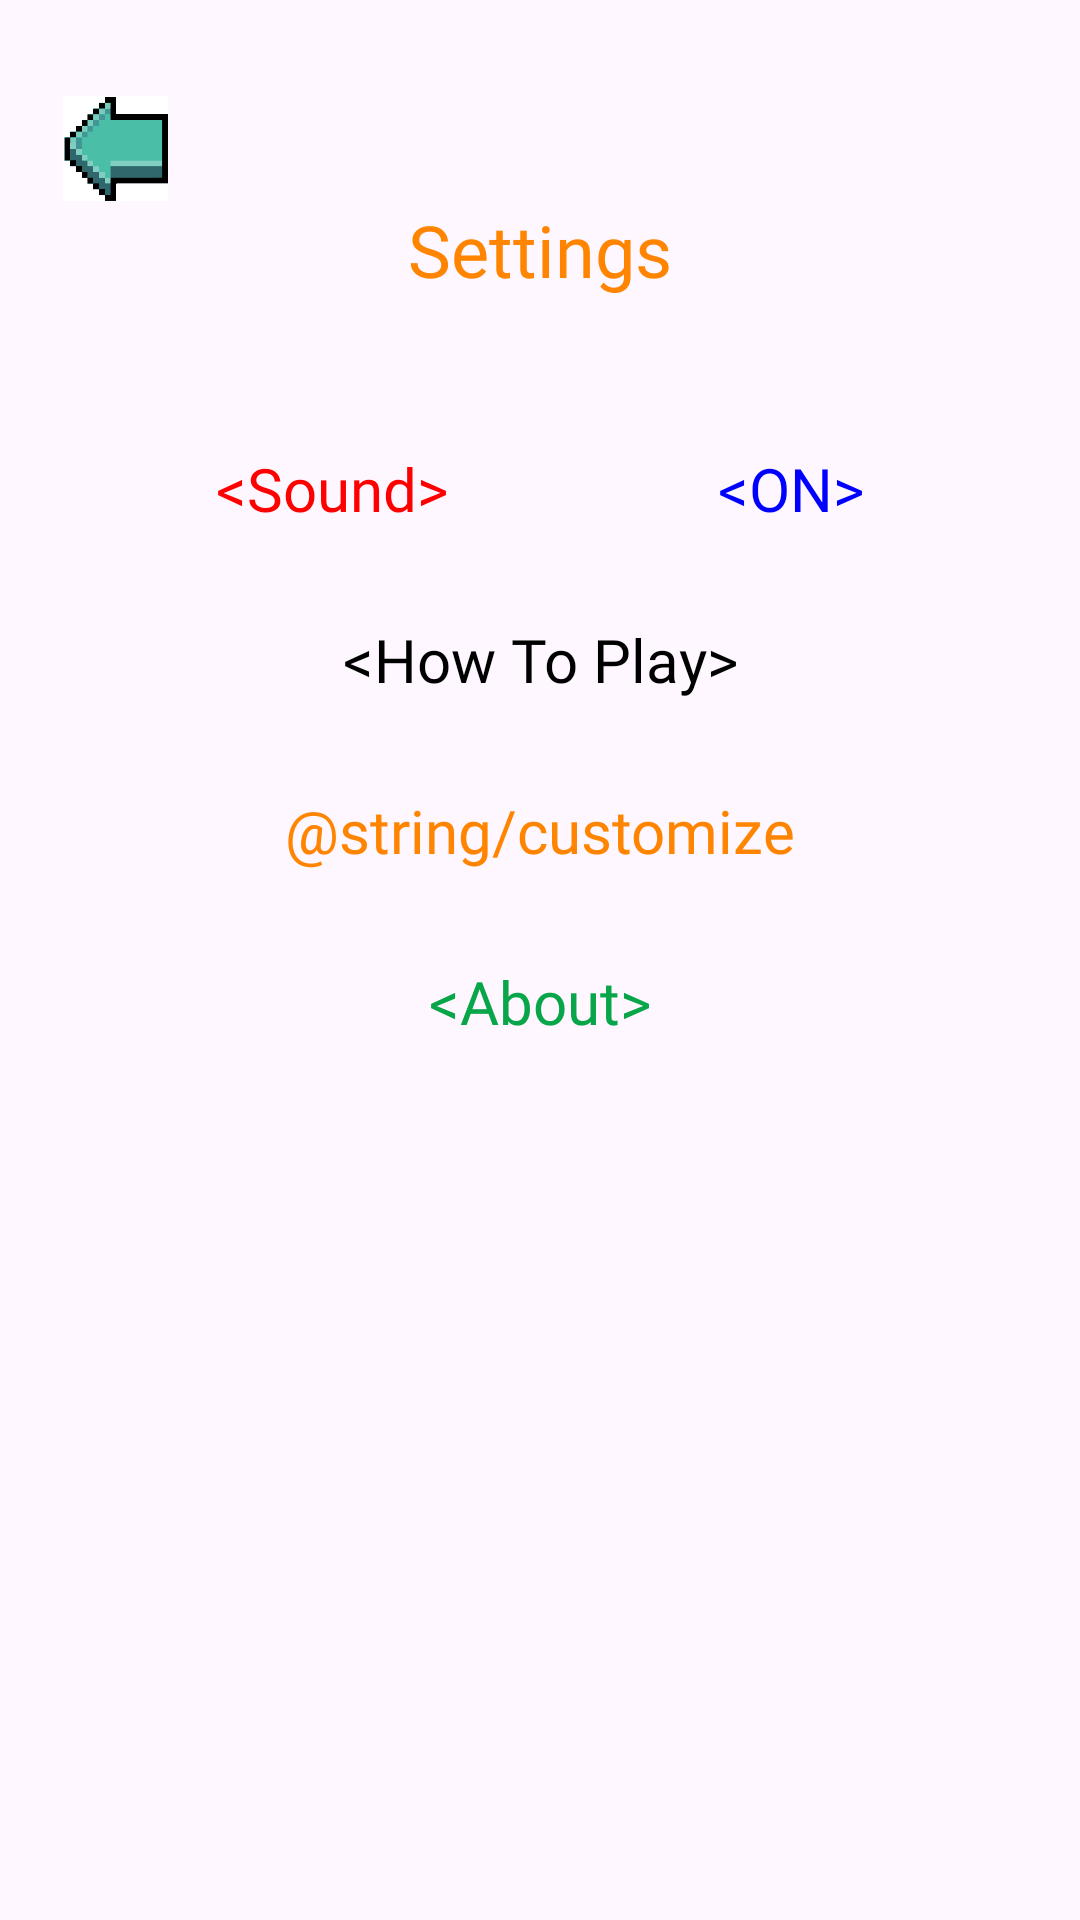

Named icons in this screenshot (1080px×1920px) and their bounding boxes, (x1, y1, x2, y2):
bckarrow: (64, 97, 168, 201)
